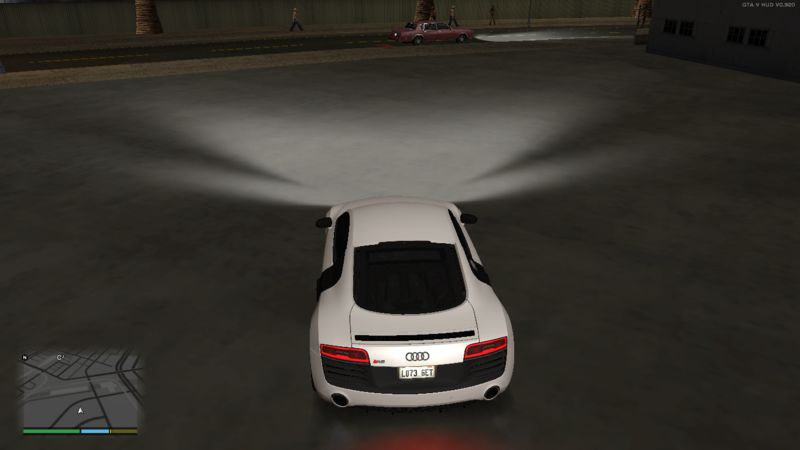car: (319, 197, 507, 415), (391, 21, 476, 46)
